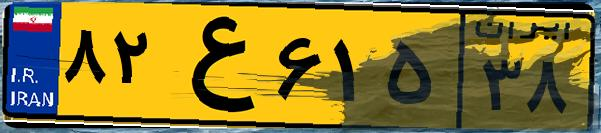1: (330, 28, 385, 110)
2: (110, 28, 158, 98)
3: (475, 38, 525, 113)
5: (385, 28, 445, 110)
6: (270, 28, 330, 110)
8: (57, 26, 110, 100), (525, 38, 570, 115)
ع: (158, 12, 270, 120)
